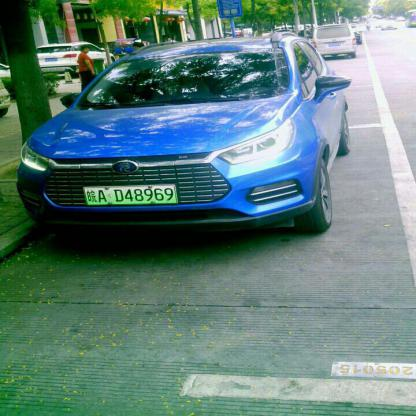lp: (80, 184, 177, 206)
